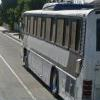Bus: (16, 3, 99, 100)
